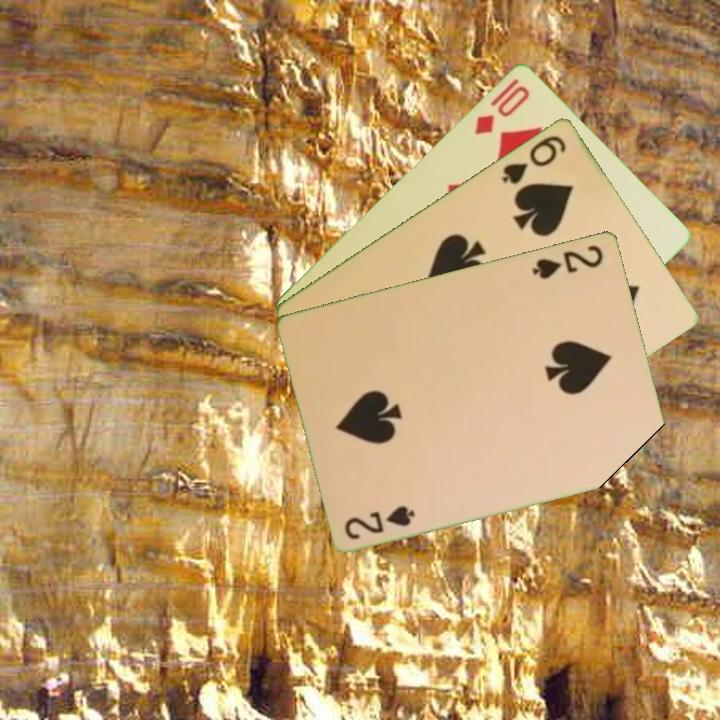10d: (471, 81, 533, 138)
2s: (528, 241, 607, 282), (341, 501, 418, 542)
6s: (498, 131, 570, 187)
